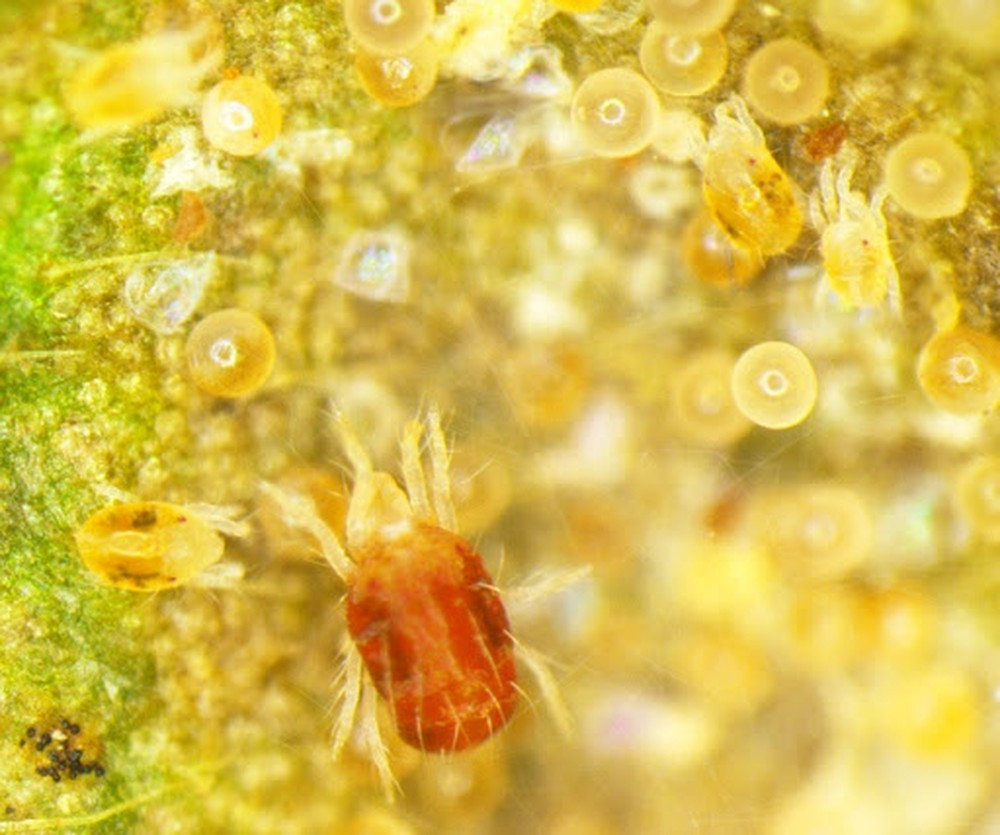Aracnido Rojo: (254, 392, 600, 809), (677, 92, 832, 299), (57, 466, 256, 602), (808, 162, 912, 311)
